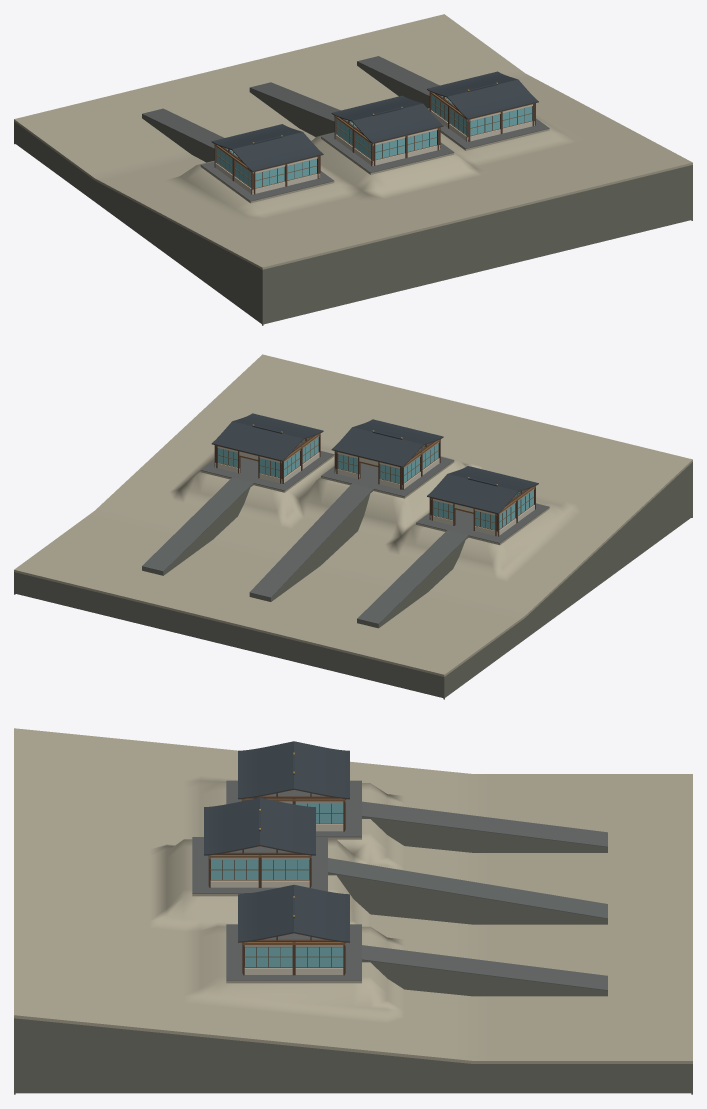
File: visual-far.glb
3 renders of one model, top to bottom at view 1: azimuth 30°, elevation 25°; view 2: azimuth 150°, elevation 25°; view 3: azimuth 270°, elevation 25°, orthographic. The views are drawn at different scales.
Parts seen in each view (by area): view 1: 连续岩土实体与最小原生岩块, 连续飞檐与梁椽 (×3), 分格窗洞与木石墙 (×6), 真实实体路基与连续坡面 (×3), 局部肩台与独立表土断面 (×3); view 2: 连续岩土实体与最小原生岩块, 真实实体路基与连续坡面 (×3), 连续飞檐与梁椽 (×3), 中轴实开门墙 (×3), 局部肩台与独立表土断面 (×3), 分格窗洞与木石墙 (×3); view 3: 连续岩土实体与最小原生岩块, 真实实体路基与连续坡面 (×3), 连续飞檐与梁椽 (×3), 分格窗洞与木石墙 (×3), 局部肩台与独立表土断面 (×3).
Boxes of the visible parts, box(x1,y1,x2,y2) form: 连续岩土实体与最小原生岩块: box(14, 14, 692, 325); 连续飞檐与梁椽 (×3): box(211, 71, 538, 171); 分格窗洞与木石墙 (×6): box(214, 91, 533, 194); 真实实体路基与连续坡面 (×3): box(142, 56, 439, 162); 局部肩台与独立表土断面 (×3): box(200, 109, 549, 203); 连续岩土实体与最小原生岩块: box(14, 354, 692, 699); 真实实体路基与连续坡面 (×3): box(142, 477, 468, 628); 连续飞檐与梁椽 (×3): box(211, 413, 538, 513); 中轴实开门墙 (×3): box(216, 445, 496, 536); 局部肩台与独立表土断面 (×3): box(200, 451, 549, 545); 分格窗洞与木石墙 (×3): box(281, 433, 535, 536); 连续岩土实体与最小原生岩块: box(14, 728, 692, 1094); 真实实体路基与连续坡面 (×3): box(328, 801, 607, 996); 连续飞檐与梁椽 (×3): box(204, 741, 349, 942); 分格窗洞与木石墙 (×3): box(209, 798, 344, 975); 局部肩台与独立表土断面 (×3): box(192, 780, 361, 983).
Size of the model in its own units: 80 by 17.2 by 80.
13 materials, 13 textured.
